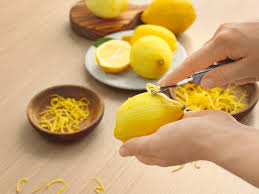Lemon: (115, 88, 184, 151)
